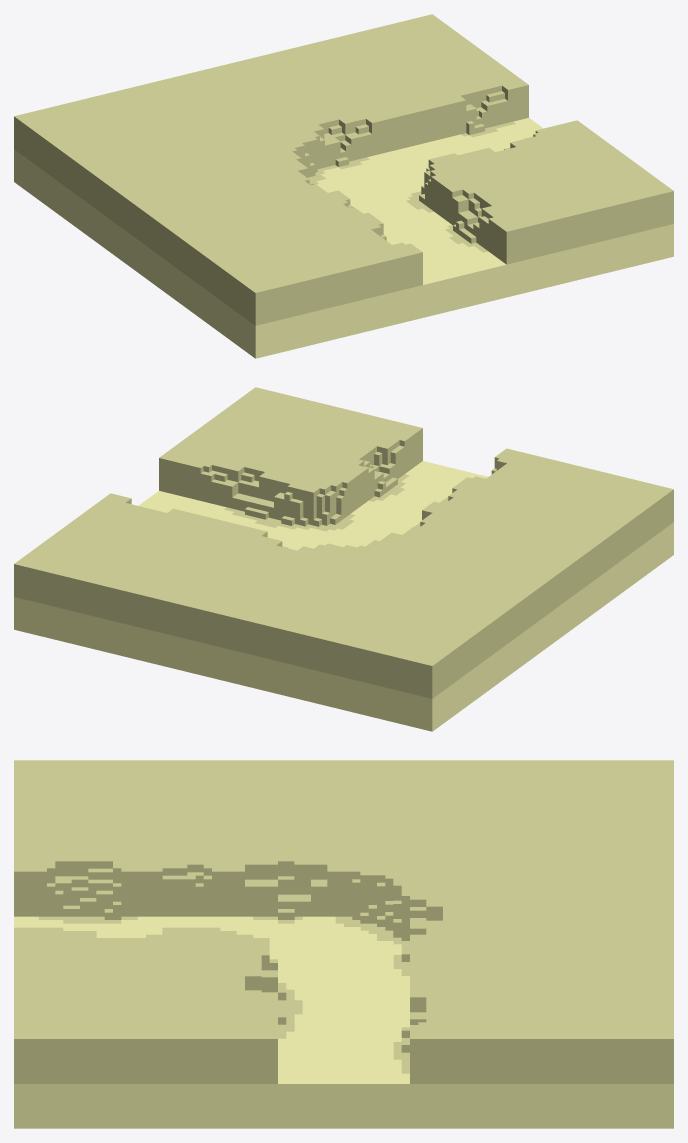
The model's file is Right Turning Path Desert Tile 1.obj.
3 views of the same model, one above another, from view 1: azimuth 30°, elevation 25°; view 2: azimuth 150°, elevation 25°; view 3: azimuth 270°, elevation 25° (orthographic). The views are drawn at different scales.
Size of the model in its own units: 8 by 1.2 by 8.
1 material, 1 textured.
